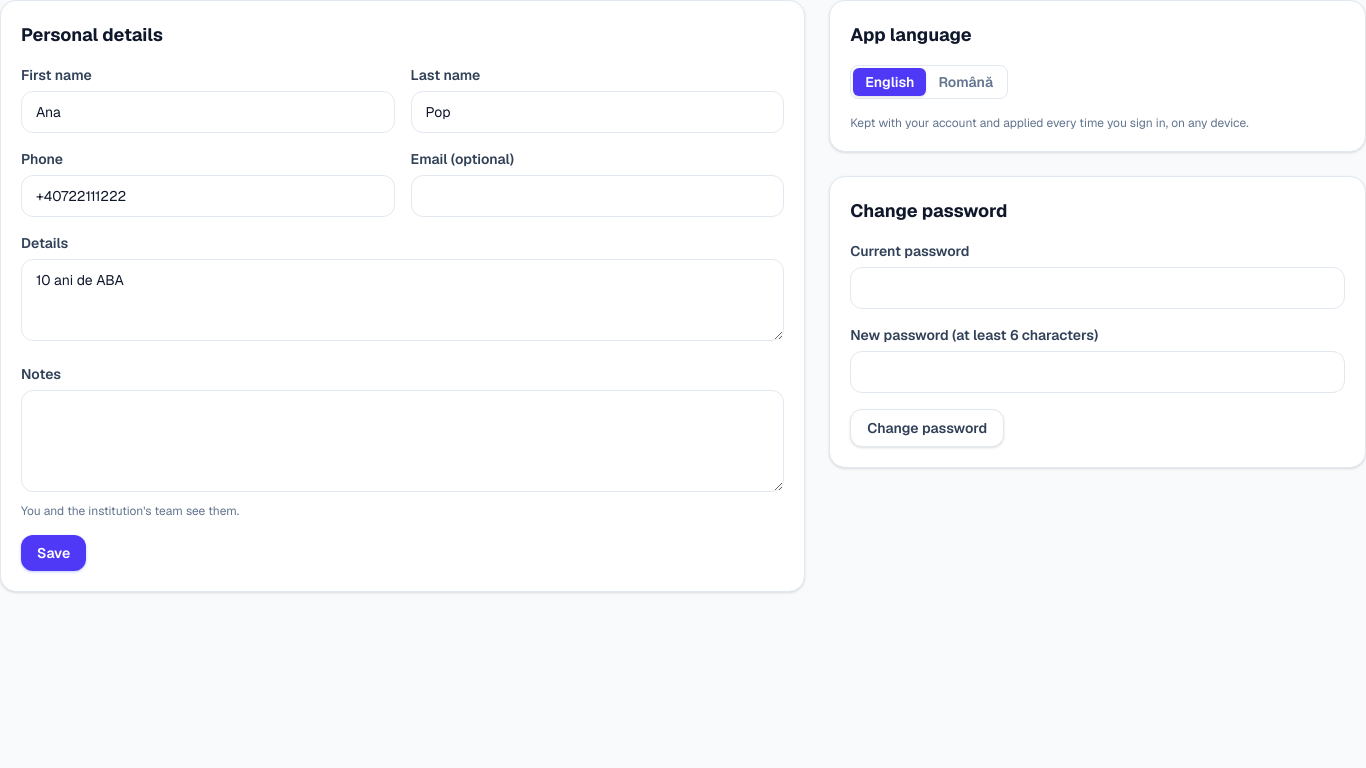
Profile › changes the password with the current one
Check: the text box showing "10 ani de ABA" is shown, box [21, 259, 784, 341]
Type "vechi1" into the password field labelled "Current password".
click(1098, 288); type("vechi1")  # box [850, 267, 1345, 309]
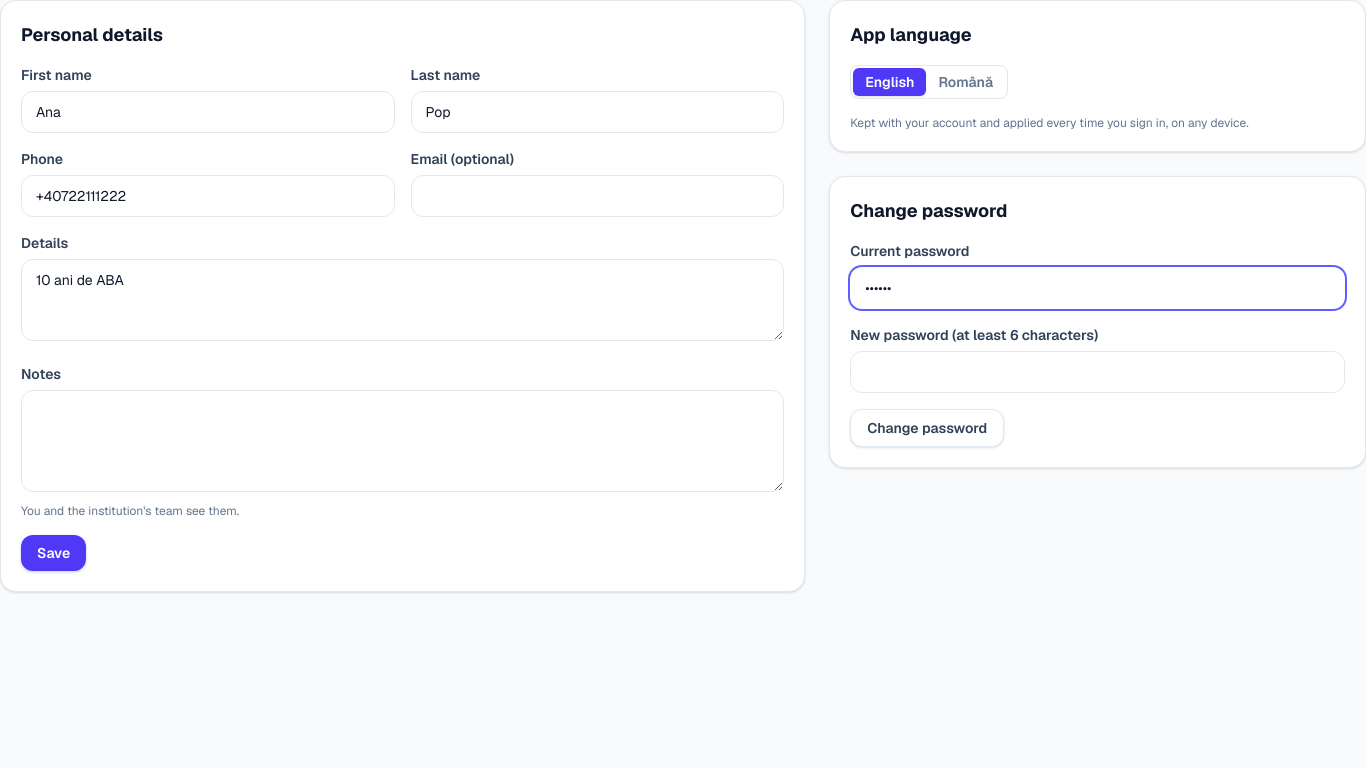
Type "nou234" into the password field labelled "New password (at least 6 characters)".
click(1098, 372); type("nou234")  # box [850, 351, 1345, 393]
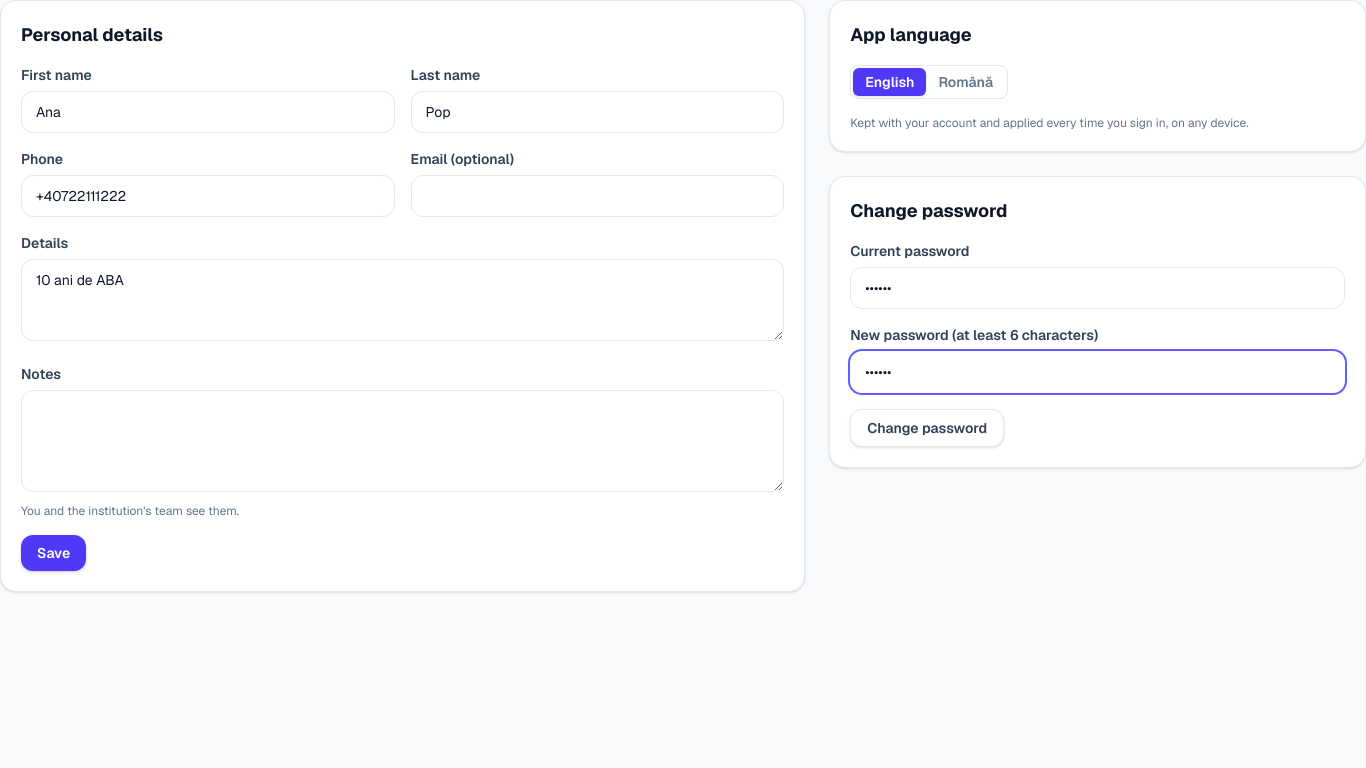
Click the button "Change password".
click(927, 428)  # box [850, 409, 1004, 447]
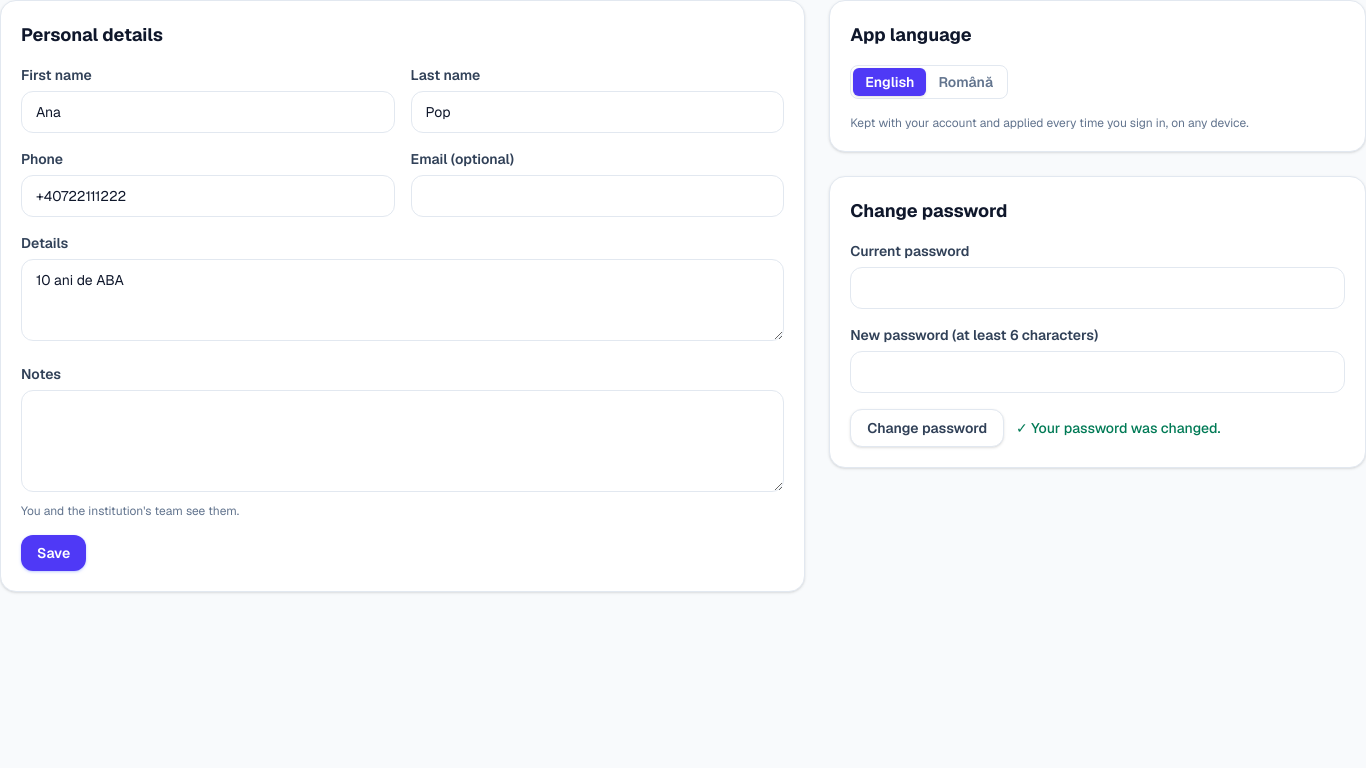
Check: the text "✓ Your password was changed." is shown, box [1016, 418, 1220, 438]
